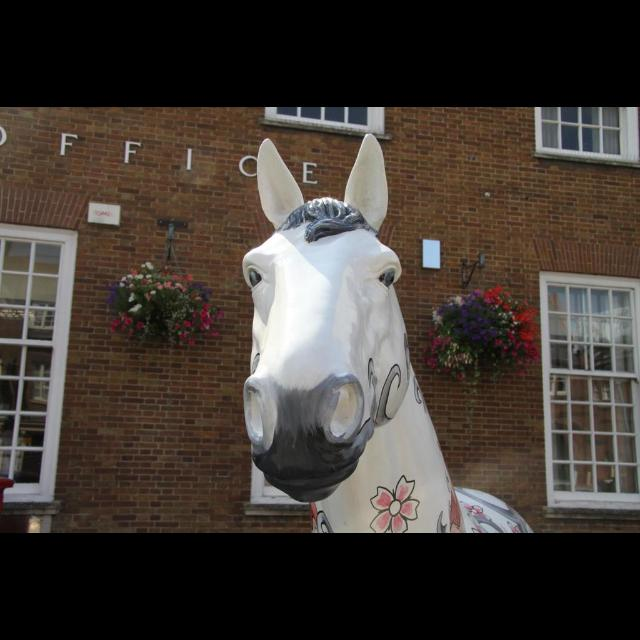Flower: (419, 284, 537, 382), (109, 260, 203, 346), (194, 300, 220, 332)
